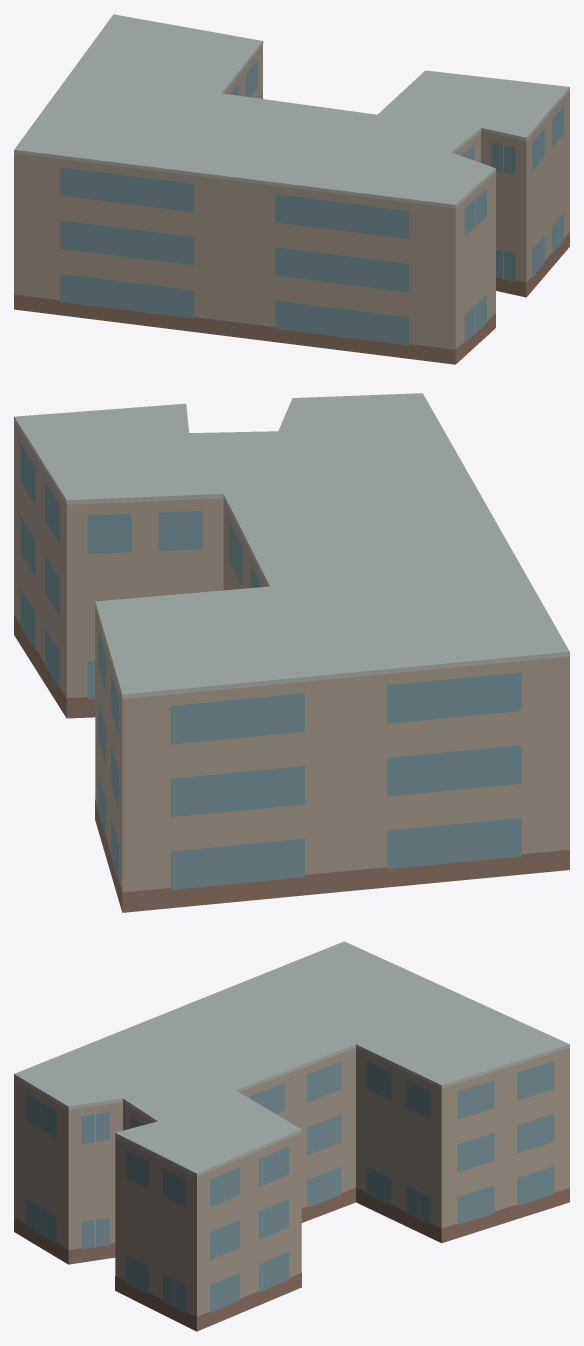
The model's file is survey-upis-32466474.glb.
3 views of the same model, one above another, from view 1: azimuth 30°, elevation 25°; view 2: azimuth 150°, elevation 25°; view 3: azimuth 270°, elevation 25° (orthographic). The views are drawn at different scales.
Visible parts, largest first — view 1: survey-upis-32466474.tmp; view 2: survey-upis-32466474.tmp; view 3: survey-upis-32466474.tmp.
Boxes of the visible parts, <box> form: survey-upis-32466474.tmp: <box>14,14,569,364</box>; survey-upis-32466474.tmp: <box>14,393,569,912</box>; survey-upis-32466474.tmp: <box>14,941,569,1331</box>.
Bounding box in the file's own units: 36.18 × 11.47 × 36.58.
